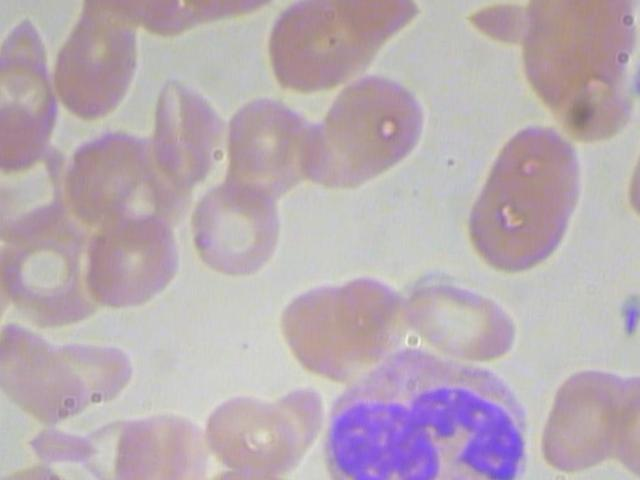RBC: (309, 65, 445, 183), (471, 105, 607, 223), (455, 164, 591, 281), (264, 273, 384, 388), (399, 272, 531, 372), (181, 175, 290, 292), (76, 205, 185, 322), (42, 10, 151, 127), (208, 87, 321, 191), (529, 360, 625, 480), (196, 383, 310, 479)
WBC: (0, 315, 98, 433)
